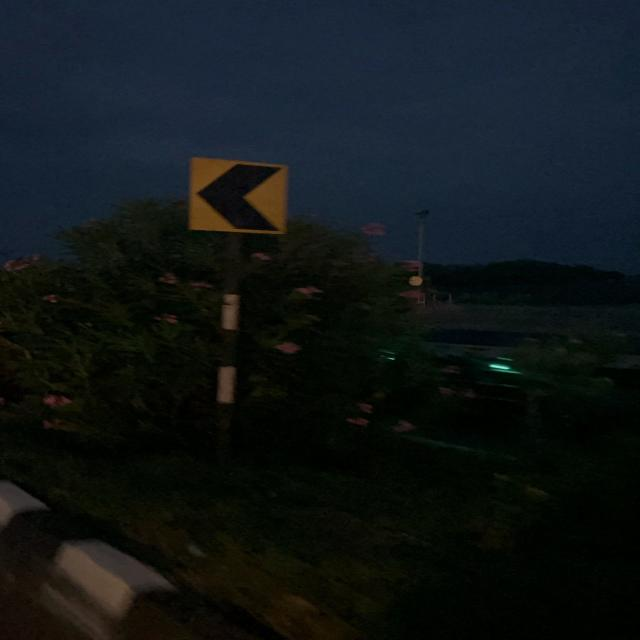chevron_left: (184, 158, 300, 236)
